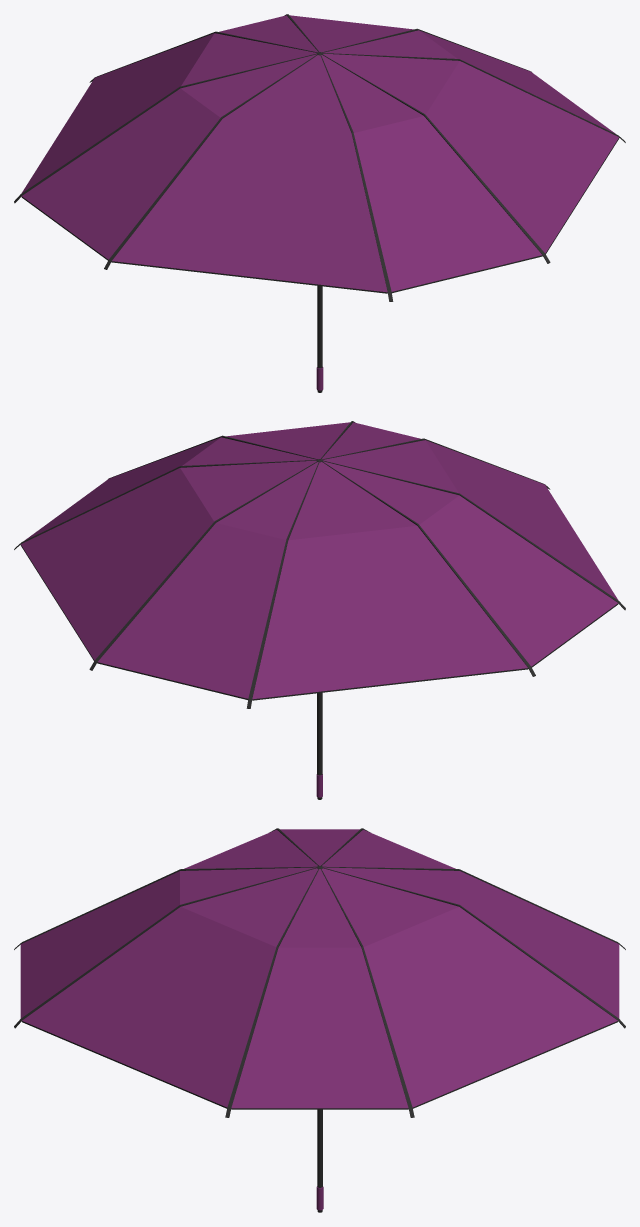
Rendered from umbrella (1).fbx.
The picture shows the model from 3 angles, top to bottom: view 1: azimuth 30°, elevation 25°; view 2: azimuth 150°, elevation 25°; view 3: azimuth 270°, elevation 25°; orthographic projection.
Parts seen in each view (by area): view 1: Cylinder; view 2: Cylinder; view 3: Cylinder.
Part boxes in pixels (box(x1,y1,x2,y2)): Cylinder: box(14, 14, 625, 392); Cylinder: box(14, 421, 625, 799); Cylinder: box(14, 828, 625, 1212).
Bounding box in the file's own units: 282 × 176 × 282.
